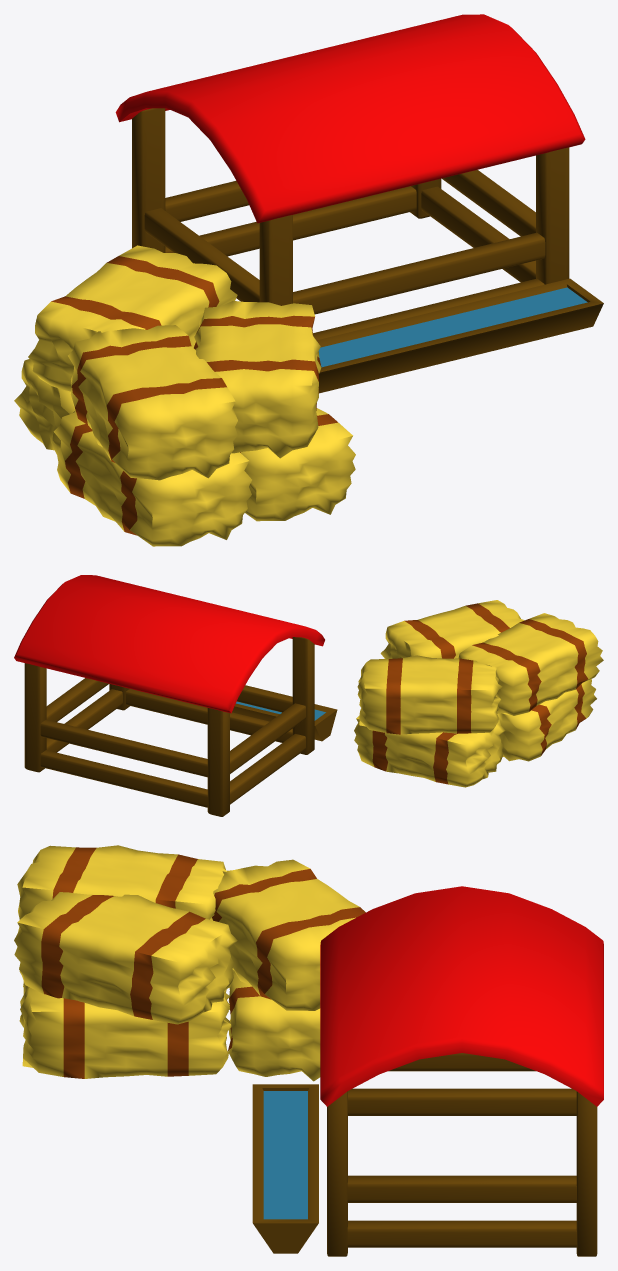
File: Stables_RedTeam.fbx
The picture shows the model from 3 angles, top to bottom: view 1: azimuth 30°, elevation 25°; view 2: azimuth 150°, elevation 25°; view 3: azimuth 270°, elevation 25°; orthographic projection. The views are drawn at different scales.
Visible parts, largest first — view 1: Stables_RedTeam; view 2: Stables_RedTeam; view 3: Stables_RedTeam.
Boxes of the visible parts, left/top/right/bottom form: Stables_RedTeam: left=14, top=14, right=603, bottom=546; Stables_RedTeam: left=14, top=575, right=603, bottom=816; Stables_RedTeam: left=14, top=845, right=603, bottom=1256.
Bounding box in the file's own units: 3328 × 1219 × 2895.
